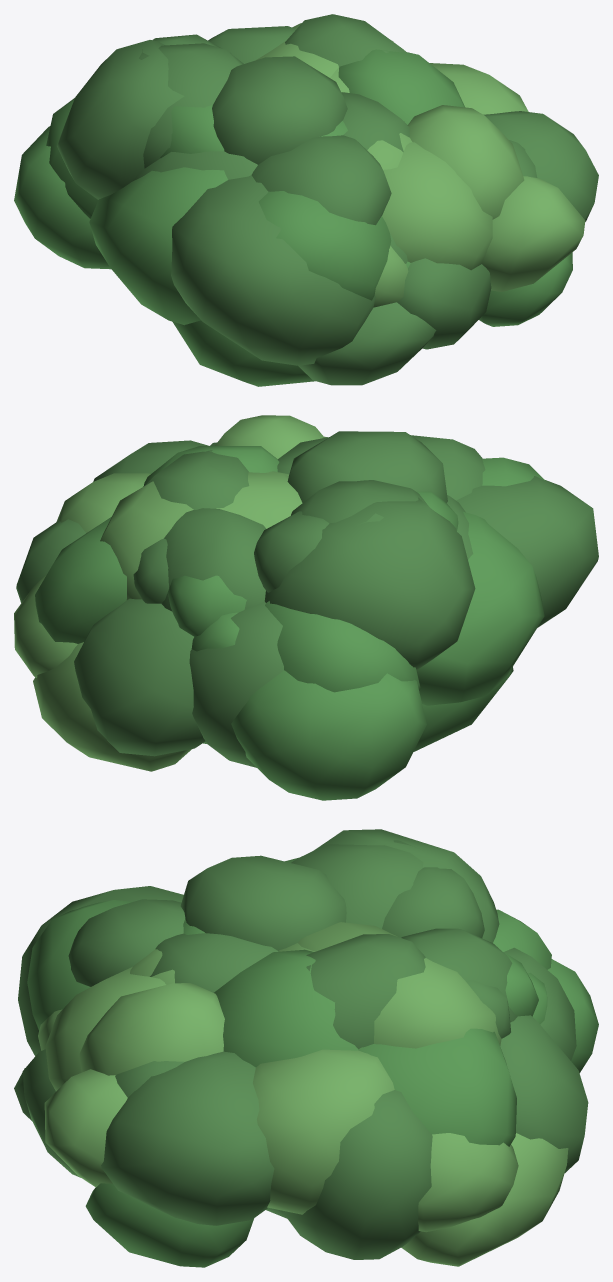
The model's file is bush_round.glb.
3 renders of one model, top to bottom at view 1: azimuth 30°, elevation 25°; view 2: azimuth 150°, elevation 25°; view 3: azimuth 270°, elevation 25°, orthographic. The views are drawn at different scales.
Parts seen in each view (by area): view 1: bush_round_Canopy2, bush_round_Canopy0, bush_round_Canopy1; view 2: bush_round_Canopy2, bush_round_Canopy0, bush_round_Canopy1; view 3: bush_round_Canopy2, bush_round_Canopy1, bush_round_Canopy0.
Part boxes in pixels (x1,y1,x2,y2): bush_round_Canopy2: (57,14,598,385); bush_round_Canopy0: (14,49,572,386); bush_round_Canopy1: (256,23,585,307); bush_round_Canopy2: (16,431,598,767); bush_round_Canopy0: (35,446,545,800); bush_round_Canopy1: (14,415,327,771); bush_round_Canopy2: (14,829,588,1259); bush_round_Canopy1: (38,922,568,1266); bush_round_Canopy0: (27,857,598,1267).
Size of the model in its own units: 1.61 by 1 by 1.65.
